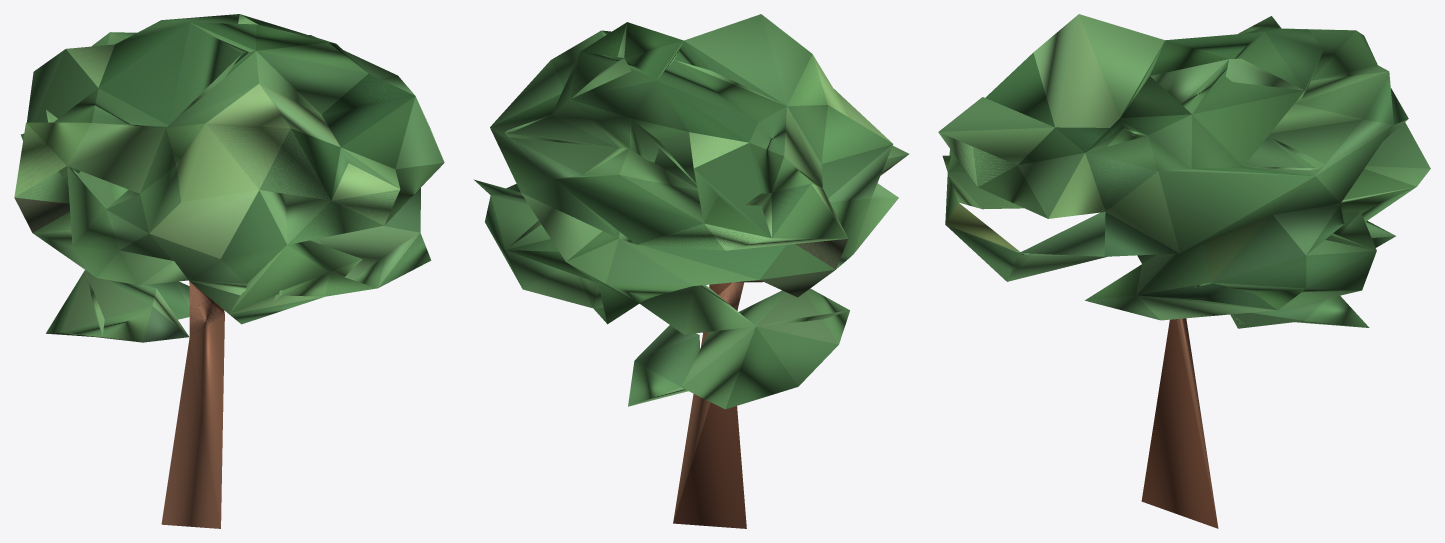
File: arbol.obj
3 renders of one model, left to right at view 1: azimuth 30°, elevation 25°; view 2: azimuth 150°, elevation 25°; view 3: azimuth 270°, elevation 25°, orthographic. The views are drawn at different scales.
Parts seen in each view (by area): view 1: arbol; view 2: arbol; view 3: arbol.
Part boxes in pixels (bbox=[...]): arbol: bbox=[14, 14, 444, 528]; arbol: bbox=[473, 14, 908, 528]; arbol: bbox=[938, 14, 1430, 528].
Bounding box in the file's own units: 1.81 × 2.33 × 2.07.
